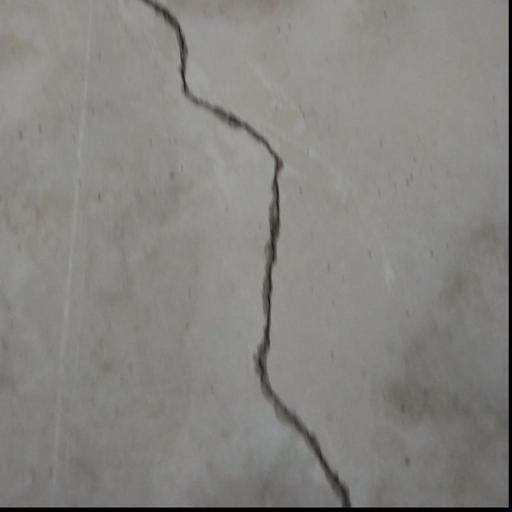major_crack: (136, 0, 388, 509)
